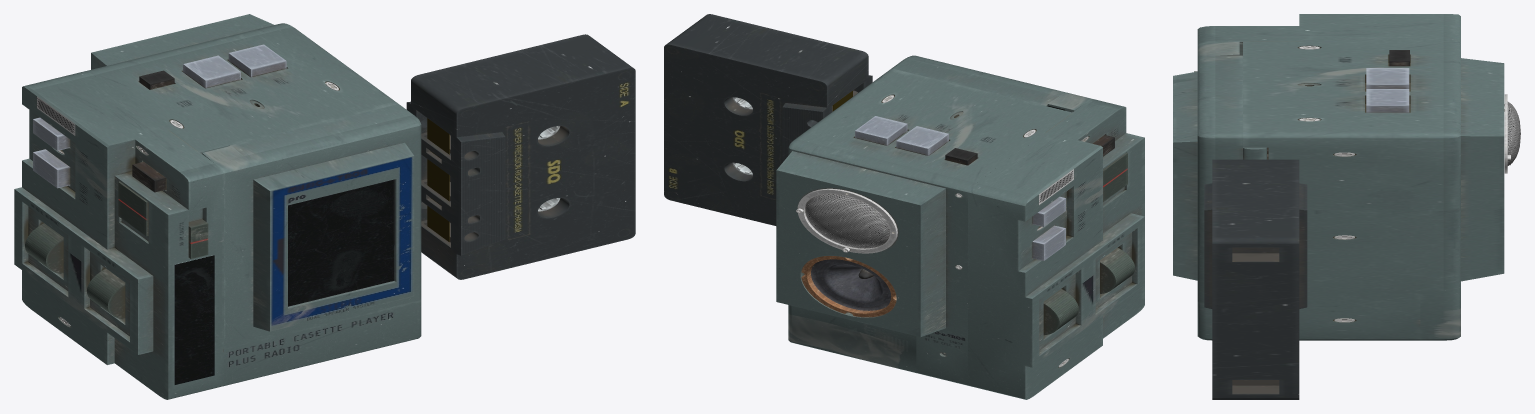
The model's file is SM_SpiritBox_CC0.fbx.
3 views of the same model, side by side, from view 1: azimuth 30°, elevation 25°; view 2: azimuth 150°, elevation 25°; view 3: azimuth 270°, elevation 25° (orthographic). The views are drawn at different scales.
Visible parts, largest first — view 1: SM_SpiritBox_CC0; view 2: SM_SpiritBox_CC0; view 3: SM_SpiritBox_CC0.
Part boxes in pixels (<box>): SM_SpiritBox_CC0: <box>14,14,635,399</box>; SM_SpiritBox_CC0: <box>664,14,1144,399</box>; SM_SpiritBox_CC0: <box>1173,14,1520,399</box>.
Size of the model in its own units: 14 by 22 by 9.5.
